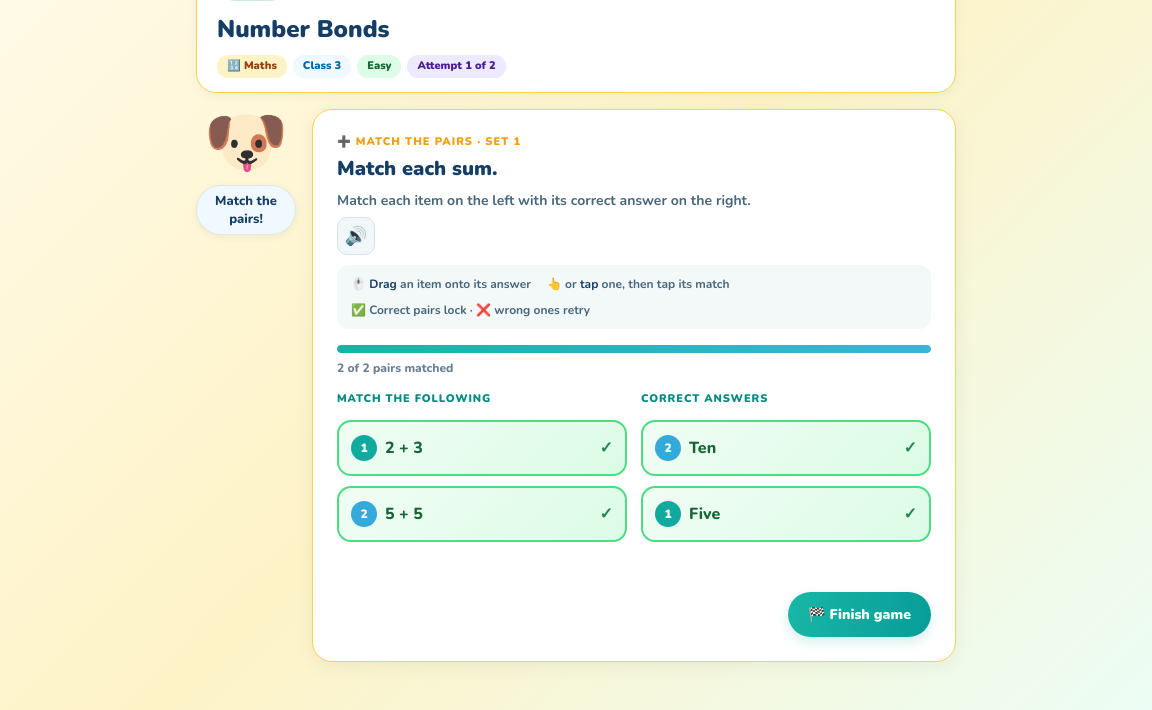
retry is hidden and the limit message shown when attempts are used up
(page scrolled)
Click the button "🏁 Finish game" at (859, 614), box top-left (788, 592), bottom-right (931, 636)
(page scrolled)
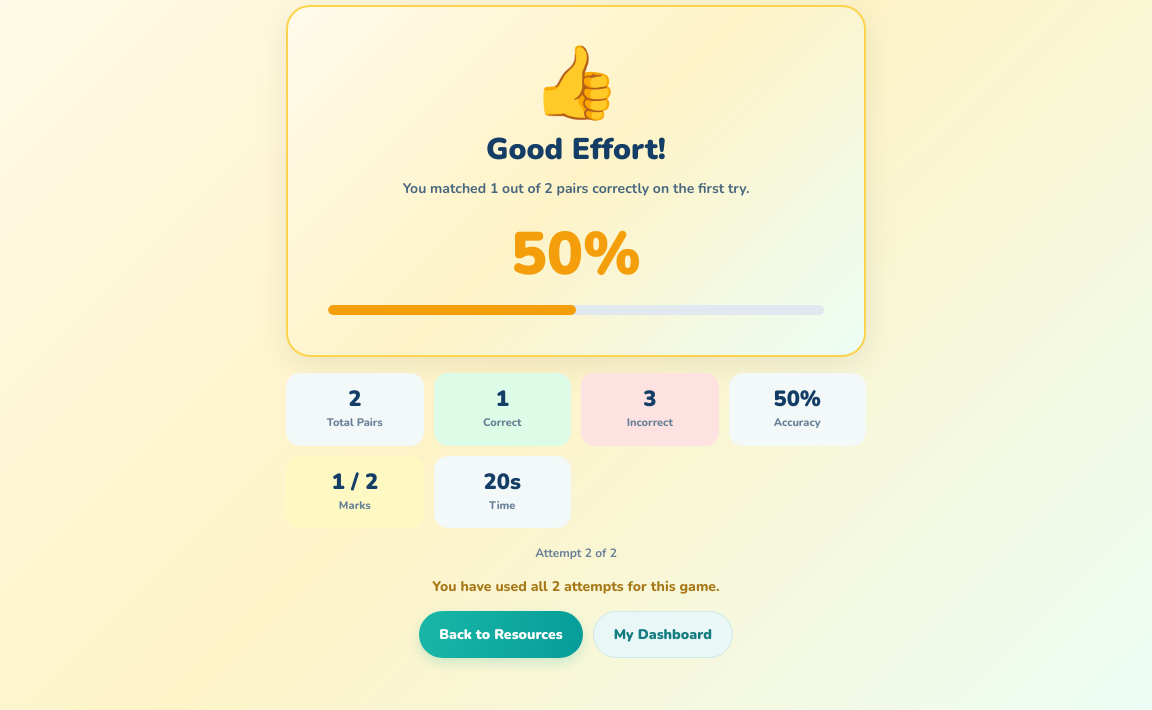
Now the heading "Good Effort!" is shown, box top-left (486, 129), bottom-right (666, 170)
Now the text "You have used all 2 attempts for this game." is shown, box top-left (432, 577), bottom-right (720, 596)
